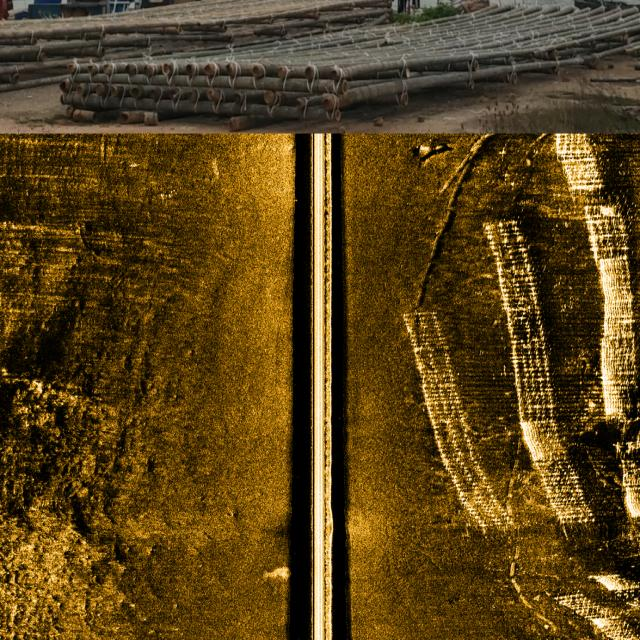other: (482, 214, 598, 532), (556, 135, 640, 518), (396, 301, 512, 541)
